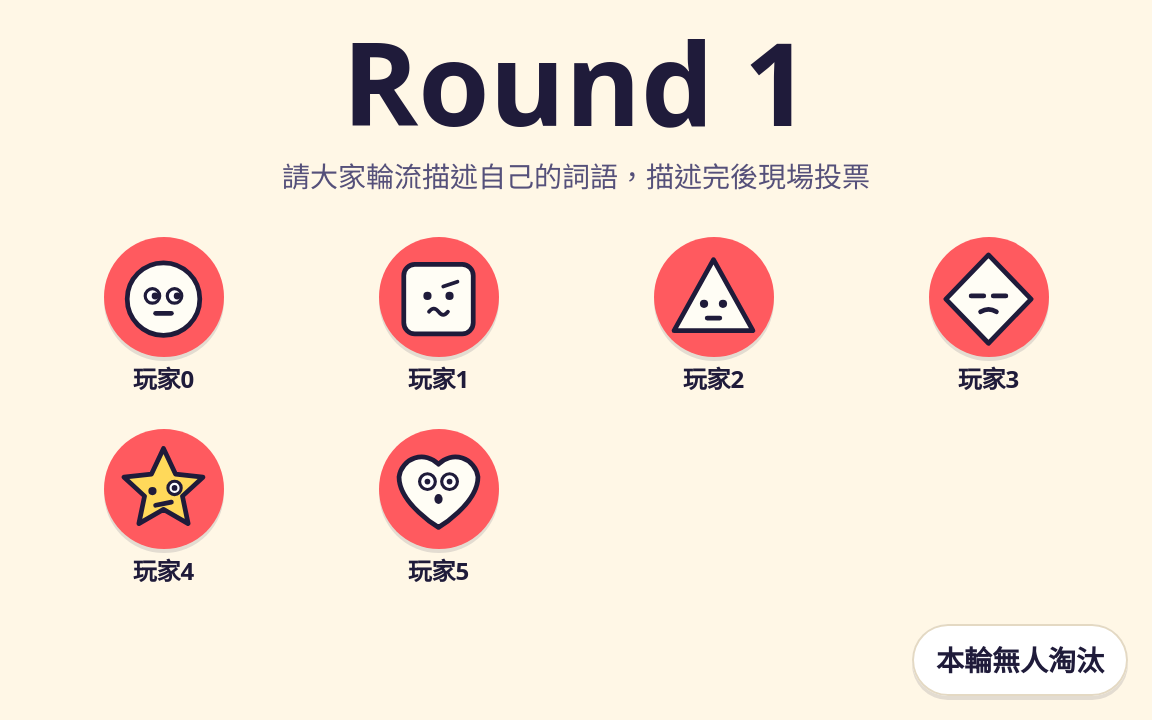
Test case: HostPlaying screen › keeps a newer dialog open when an older request settles
Expected: the heading "Round 1" is shown, [342,24,810,139]
Click the button "玩家3" at (988, 317), box [920,229,1056,405]
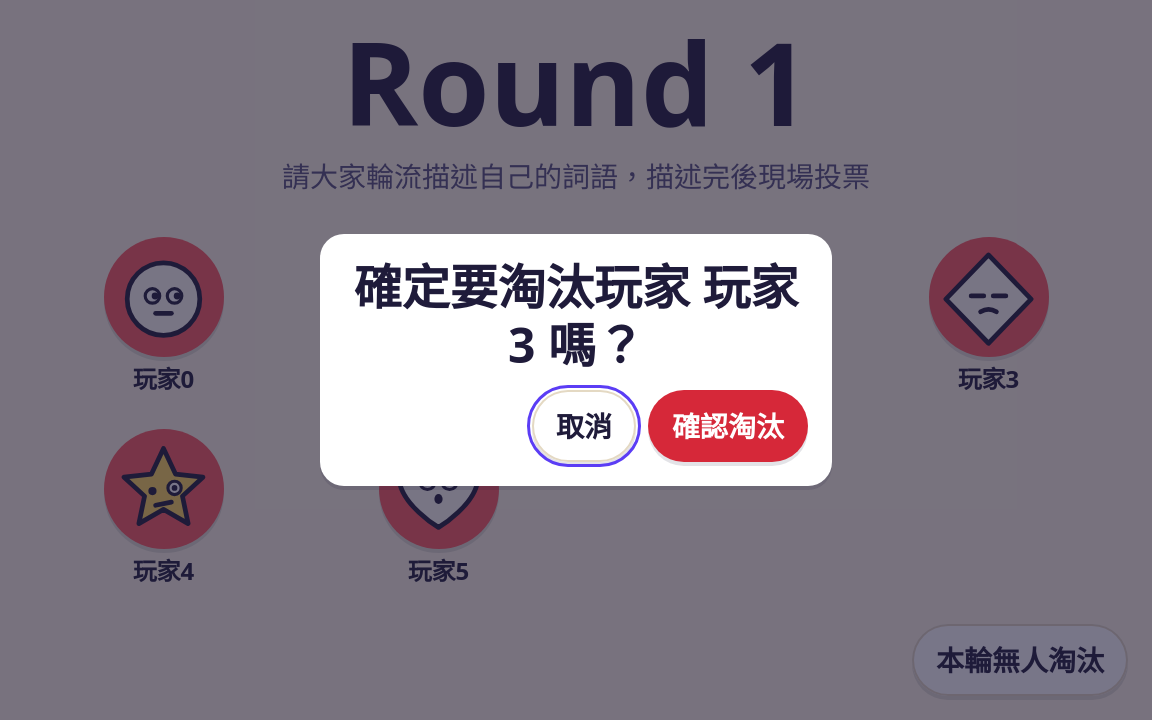
Click the button "確認淘汰" at (728, 426), box [648,390,808,462]
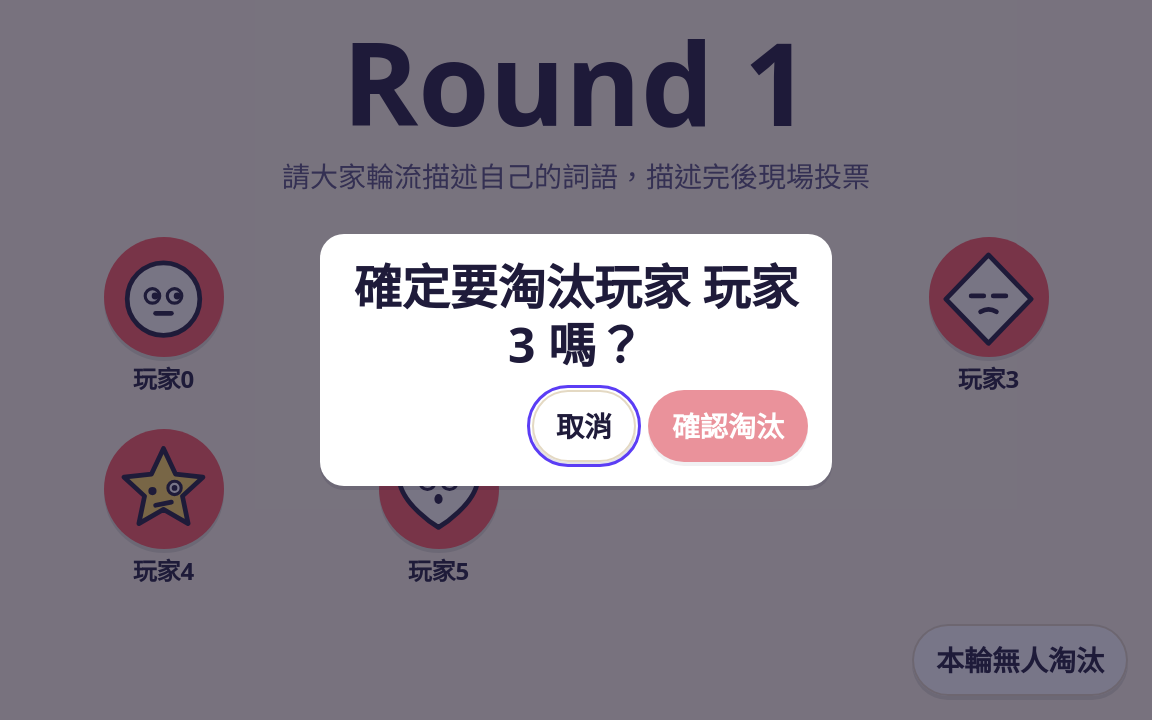
Click the button "取消" at (584, 426), box [532,390,636,462]
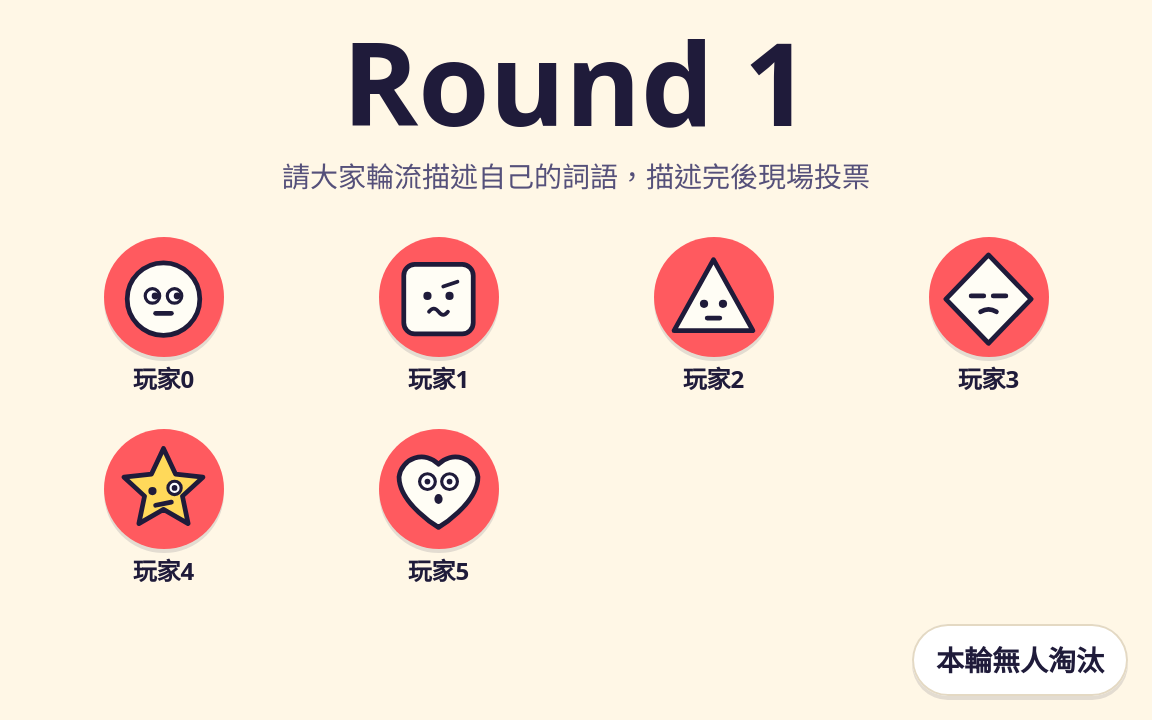
Click the button "玩家4" at (164, 509), box [96,421,232,597]
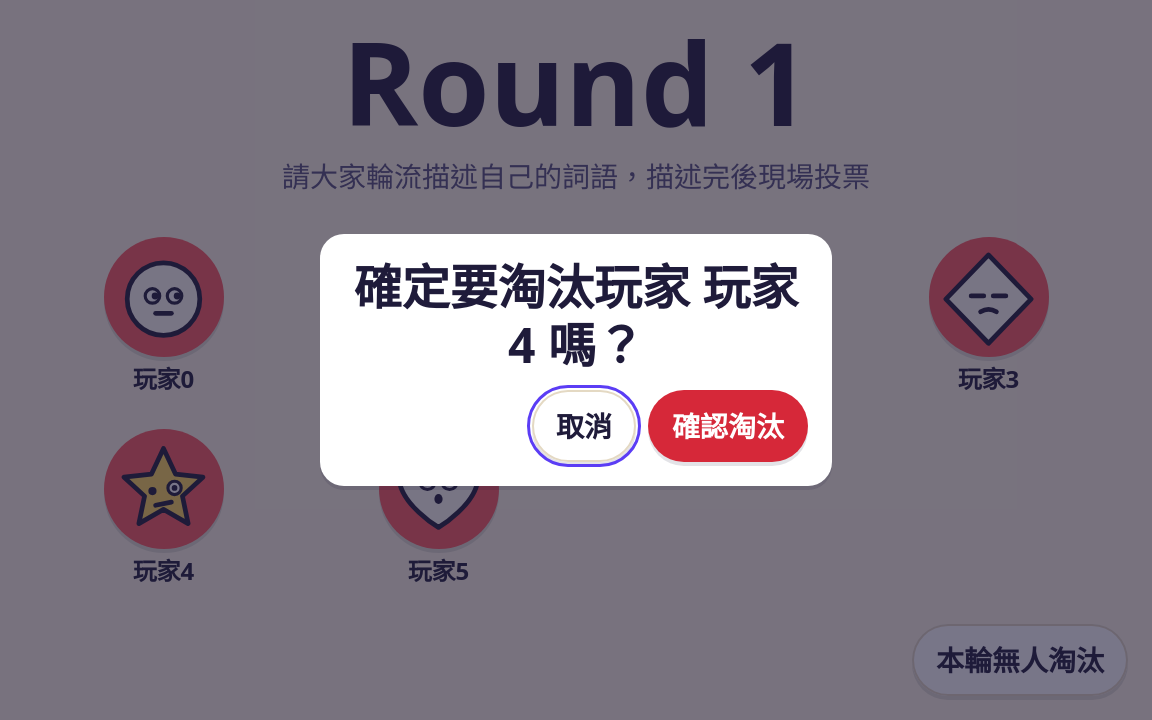
Now the heading "確定要淘汰玩家 玩家4 嗎？" is shown, box [344,258,808,374]
